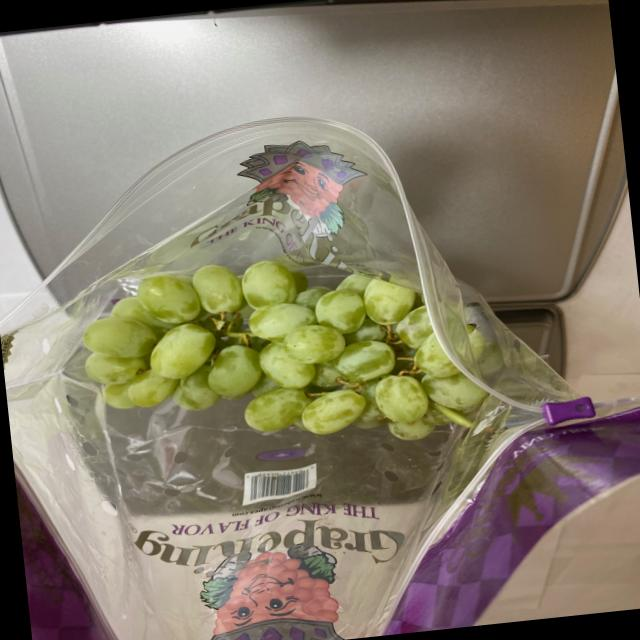grapes: (71, 227, 522, 488)
